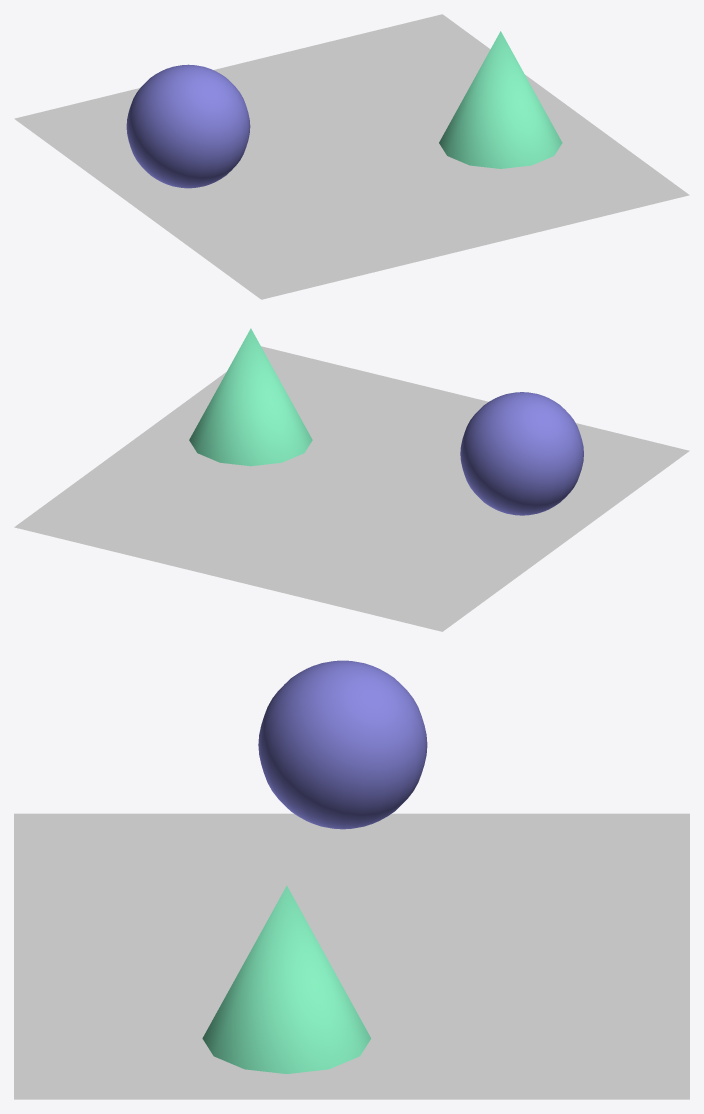
Rendered from asset.gltf.
3 views of the same model, one above another, from view 1: azimuth 30°, elevation 25°; view 2: azimuth 150°, elevation 25°; view 3: azimuth 270°, elevation 25° (orthographic). The views are drawn at different scales.
Visible parts, largest first — view 1: Plane, Sphere, Cone; view 2: Plane, Sphere, Cone; view 3: Plane, Sphere, Cone.
Boxes of the visible parts, x1,y1,x2,y2 form: Plane: [14, 14, 689, 299]; Sphere: [126, 64, 250, 188]; Cone: [439, 31, 562, 168]; Plane: [14, 346, 689, 631]; Sphere: [460, 392, 583, 515]; Cone: [189, 328, 312, 466]; Plane: [14, 813, 689, 1099]; Sphere: [258, 660, 427, 829]; Cone: [202, 885, 371, 1073].
Size of the model in its own units: 4.06 by 1.16 by 4.
